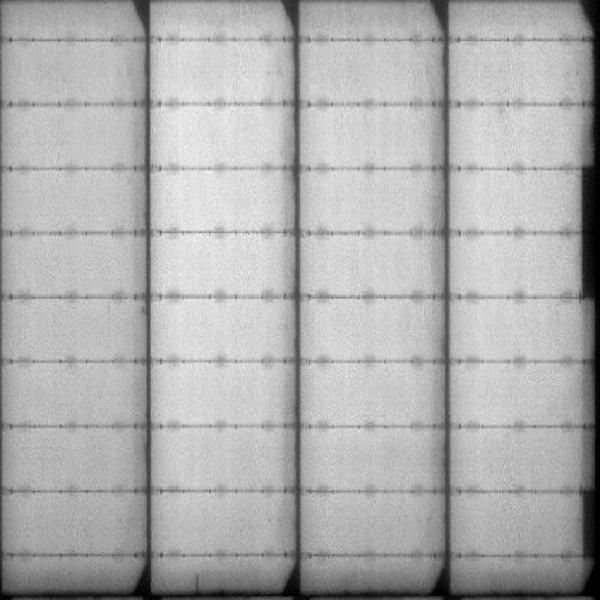black_border: (578, 164, 600, 302), (578, 480, 600, 561)
